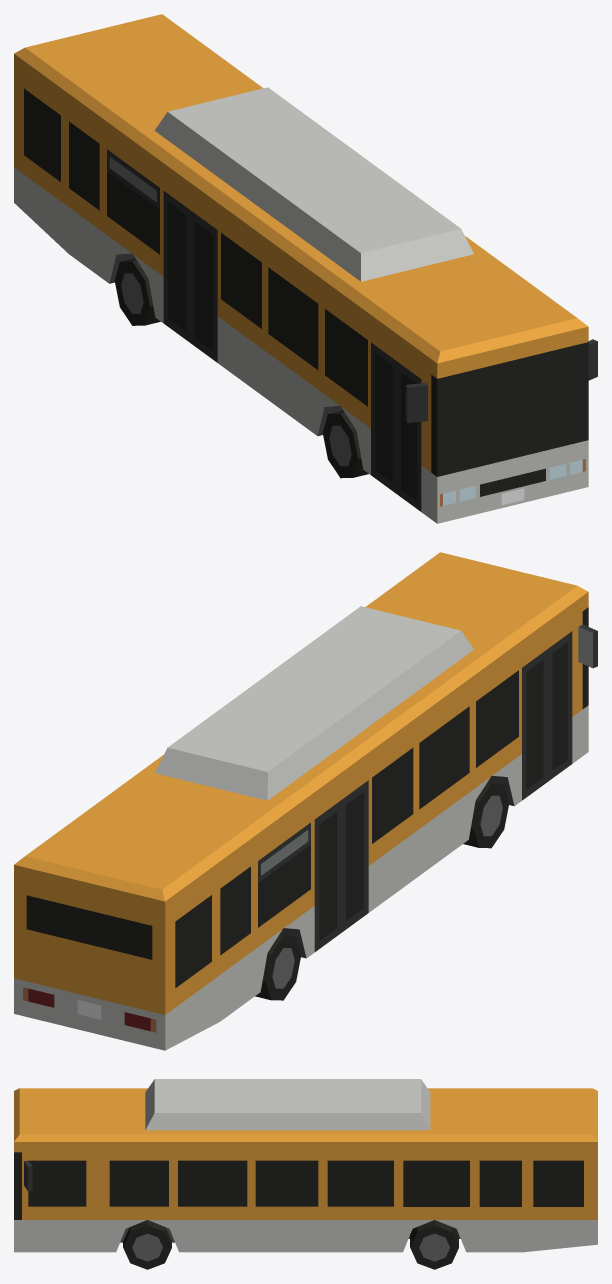
File: Veh_Bus_01_Yellow.glb
The picture shows the model from 3 angles, top to bottom: view 1: azimuth 30°, elevation 25°; view 2: azimuth 150°, elevation 25°; view 3: azimuth 270°, elevation 25°; orthographic projection. The views are drawn at different scales.
Visible parts, largest first — view 1: Bus_01_Yellow, Wheel_RR, Wheel_FR; view 2: Bus_01_Yellow, Wheel_RR, Wheel_FR; view 3: Bus_01_Yellow, Wheel_RL, Wheel_FL.
Boxes of the visible parts, x1=… form: Bus_01_Yellow: x1=14, y1=14, x2=597, y2=523; Wheel_RR: x1=114, y1=258, x2=160, y2=325; Wheel_FR: x1=323, y1=410, x2=368, y2=478; Bus_01_Yellow: x1=14, y1=552, x2=597, y2=1050; Wheel_RR: x1=255, y1=933, x2=301, y2=1000; Wheel_FR: x1=463, y1=780, x2=509, y2=848; Bus_01_Yellow: x1=14, y1=1079, x2=597, y2=1252; Wheel_RL: x1=410, y1=1220, x2=458, y2=1269; Wheel_FL: x1=123, y1=1220, x2=171, y2=1269.
Bounding box in the file's own units: 1.7 × 1.83 × 6.53.
Materials: 1 (1 with a texture image).
